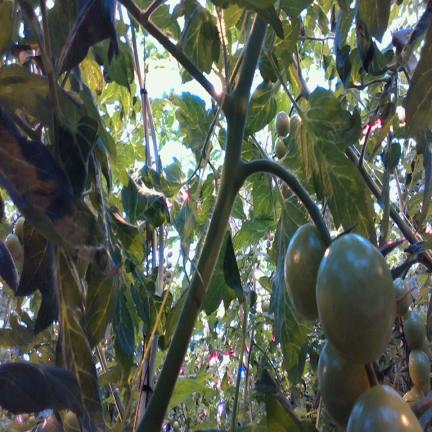6kp_peduncle: (211, 121, 332, 249)
6kp_petiole: (185, 61, 256, 157), (349, 129, 371, 183), (291, 47, 305, 86)
MainStem: (136, 14, 267, 432), (346, 148, 381, 199), (243, 330, 254, 423), (291, 55, 310, 101)
tomato: (316, 234, 395, 363), (318, 341, 369, 428), (284, 223, 325, 320), (347, 384, 422, 431), (403, 310, 425, 349), (409, 349, 430, 386), (393, 278, 410, 315), (403, 386, 424, 406), (5, 234, 21, 258), (63, 410, 81, 431), (275, 111, 290, 135), (14, 216, 25, 242), (274, 137, 286, 158)
